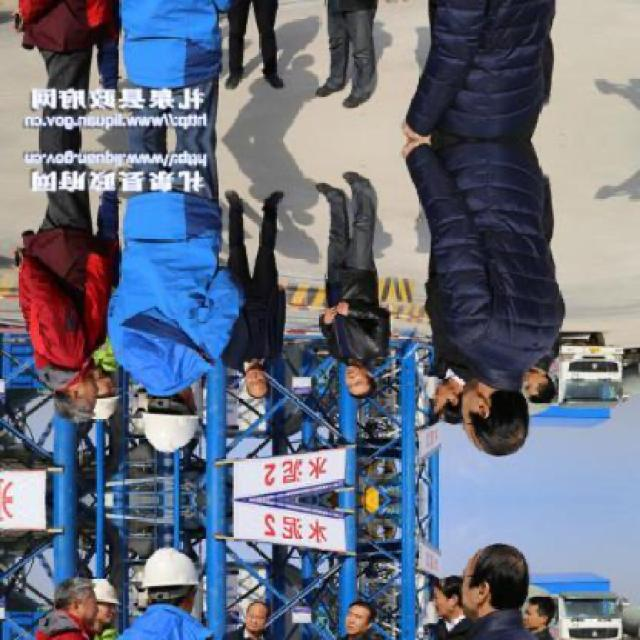con casco: (121, 370, 220, 460)
sin casco: (431, 347, 520, 449), (52, 374, 114, 432), (342, 375, 388, 418), (242, 358, 282, 405)
